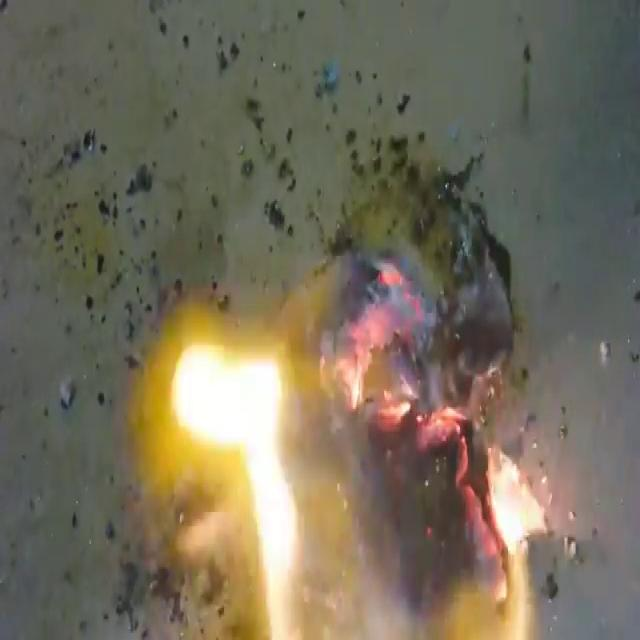Fire: (130, 247, 544, 637)
